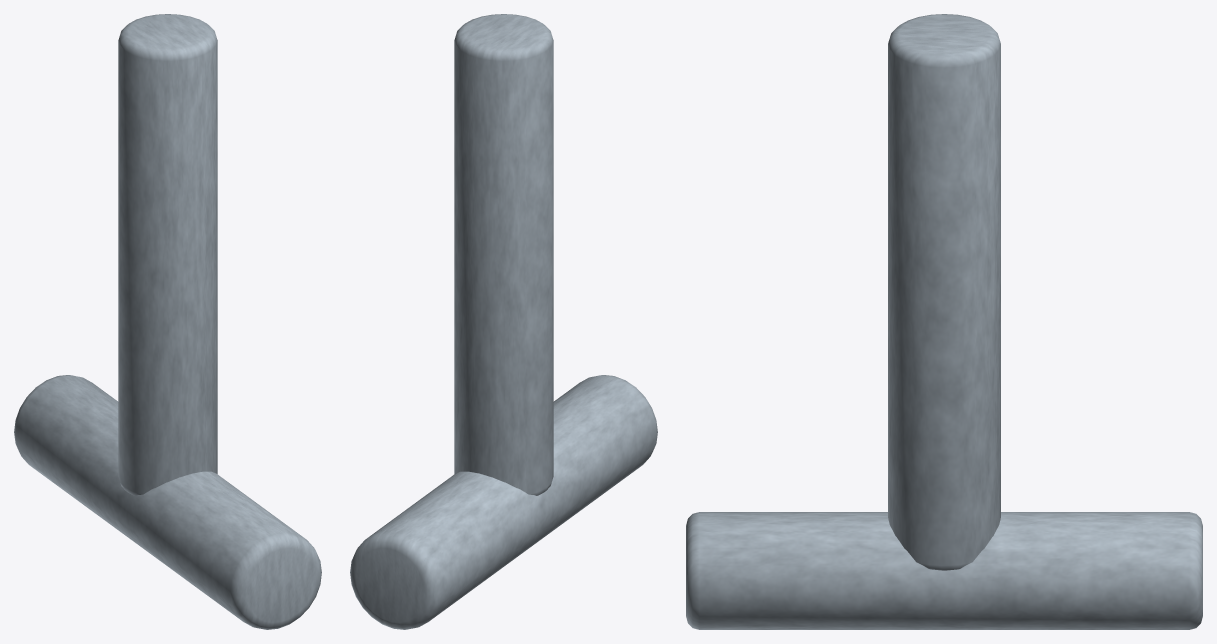
Rendered from rail_post.glb.
The picture shows the model from 3 angles, left to right: view 1: azimuth 30°, elevation 25°; view 2: azimuth 150°, elevation 25°; view 3: azimuth 270°, elevation 25°; orthographic projection. The views are drawn at different scales.
Visible parts, largest first — view 1: rail_post_textured_mesh; view 2: rail_post_textured_mesh; view 3: rail_post_textured_mesh.
Part boxes in pixels (left/top/right/bottom): rail_post_textured_mesh: left=14, top=14, right=321, bottom=629; rail_post_textured_mesh: left=350, top=14, right=657, bottom=629; rail_post_textured_mesh: left=686, top=14, right=1202, bottom=629.
Size of the model in its own units: 0.22 by 1.21 by 0.96.
1 material, 1 textured.
